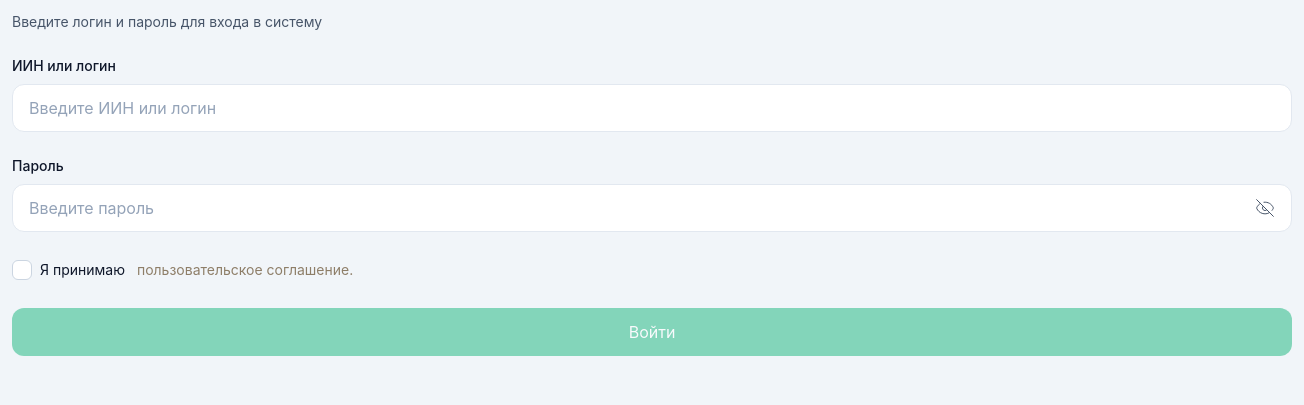
Test case: StaffSignInForm › FR-AUTH-26: shows the single message returned for wrong credentials
Check: the button "пользовательское соглашение." is shown, box [137,260,353,280]
Type "inspector1" into the field labelled "ИИН или логин". click: (652, 108)
box: [12,84,1292,132]
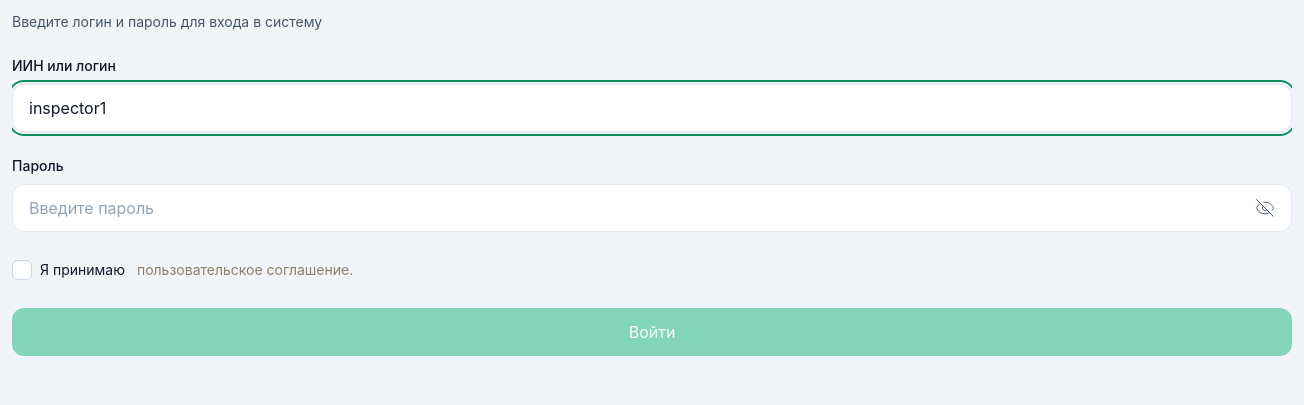
Type "secret-password" into the password field labelled "Пароль". click: (652, 208)
box: [12,184,1292,232]
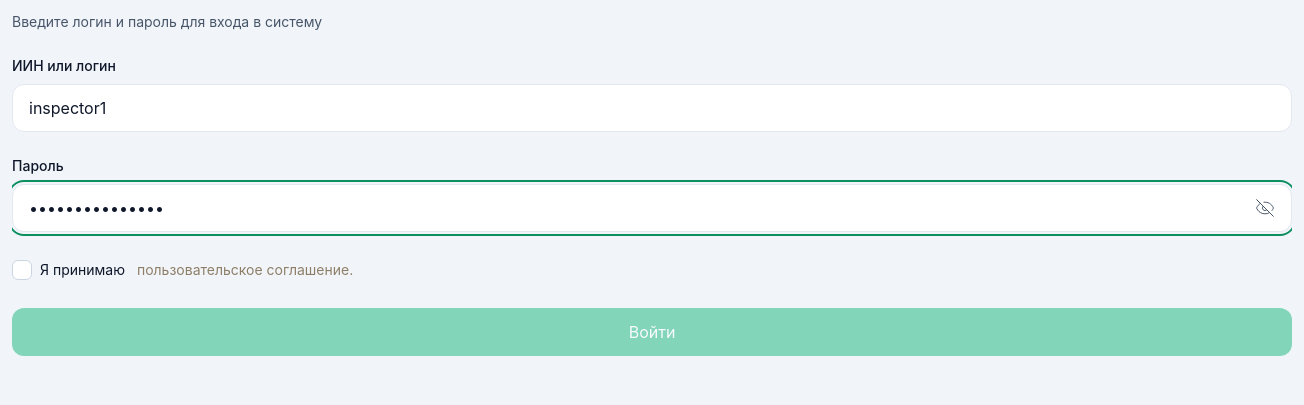
Click the checkbox labelled "Я принимаю". click: (22, 270)
box: [12,260,32,280]
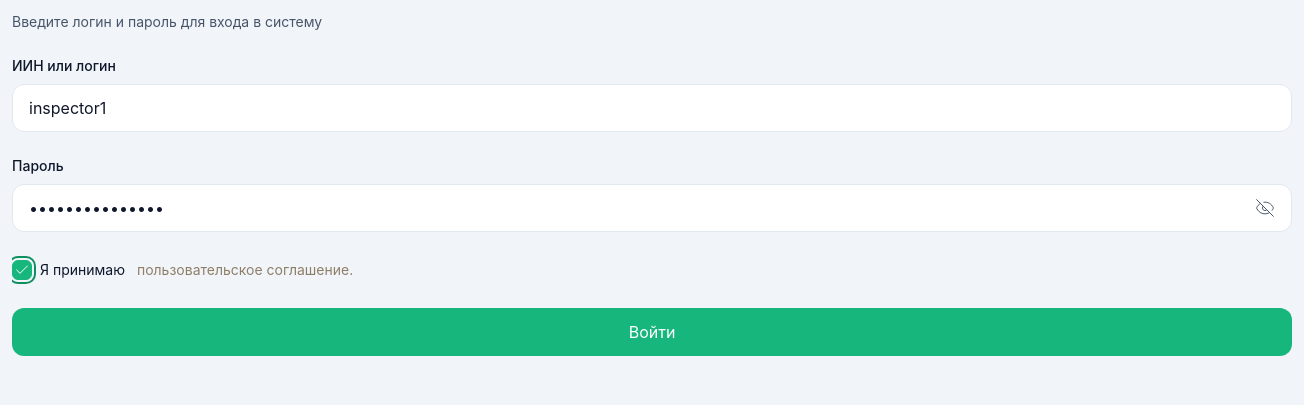
Click the button "Войти". click: (652, 332)
box: [12,308,1292,356]
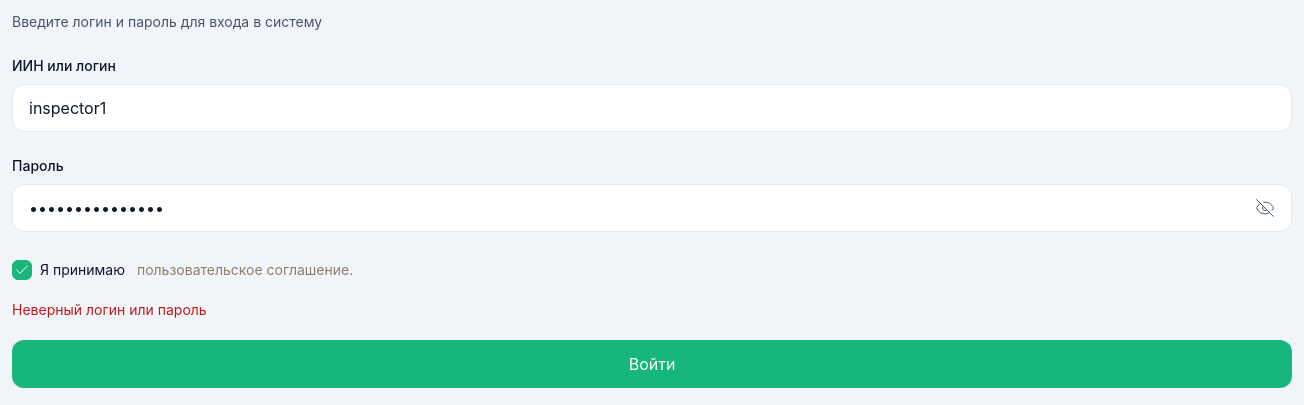
Check: the message reads "Неверный логин или пароль", box [12,301,207,318]
